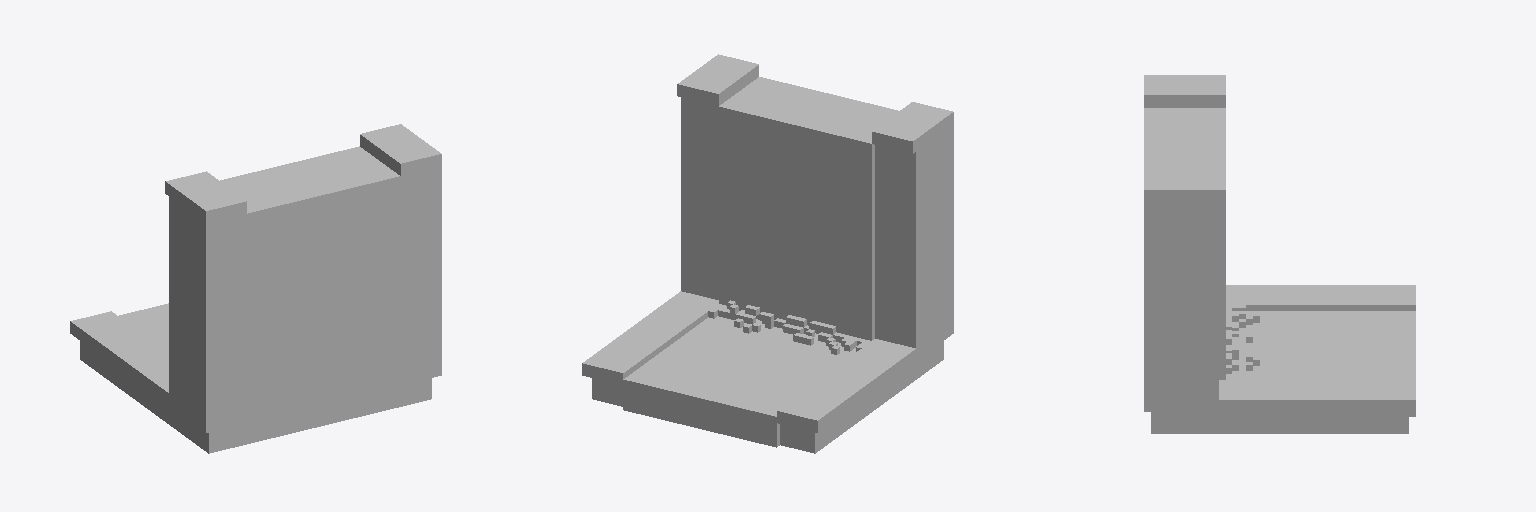
The model's file is waterfall.obj.
3 renders of one model, left to right at view 1: azimuth 30°, elevation 25°; view 2: azimuth 150°, elevation 25°; view 3: azimuth 270°, elevation 25°, orthographic.
Parts seen in each view (by area): view 1: object 1; view 2: object 1; view 3: object 1.
Part boxes in pixels (left/top/right/bottom): object 1: left=70, top=124, right=441, bottom=453; object 1: left=582, top=54, right=953, bottom=453; object 1: left=1144, top=75, right=1415, bottom=433.
Bounding box in the file's own units: 4 × 4 × 4.